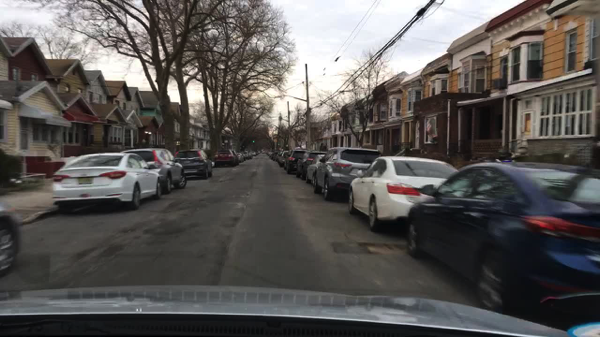car: (404, 160, 599, 333), (346, 154, 461, 234), (49, 151, 163, 214), (312, 147, 382, 201), (120, 147, 188, 193), (0, 201, 21, 278), (175, 148, 213, 181), (295, 150, 326, 180), (284, 147, 310, 174), (303, 154, 325, 184), (213, 149, 234, 168), (279, 150, 291, 167), (271, 151, 280, 162), (274, 151, 283, 162), (232, 151, 239, 162), (236, 153, 244, 162), (242, 152, 250, 160), (251, 151, 257, 157), (260, 148, 265, 155)
traffic light: (251, 139, 256, 145)
